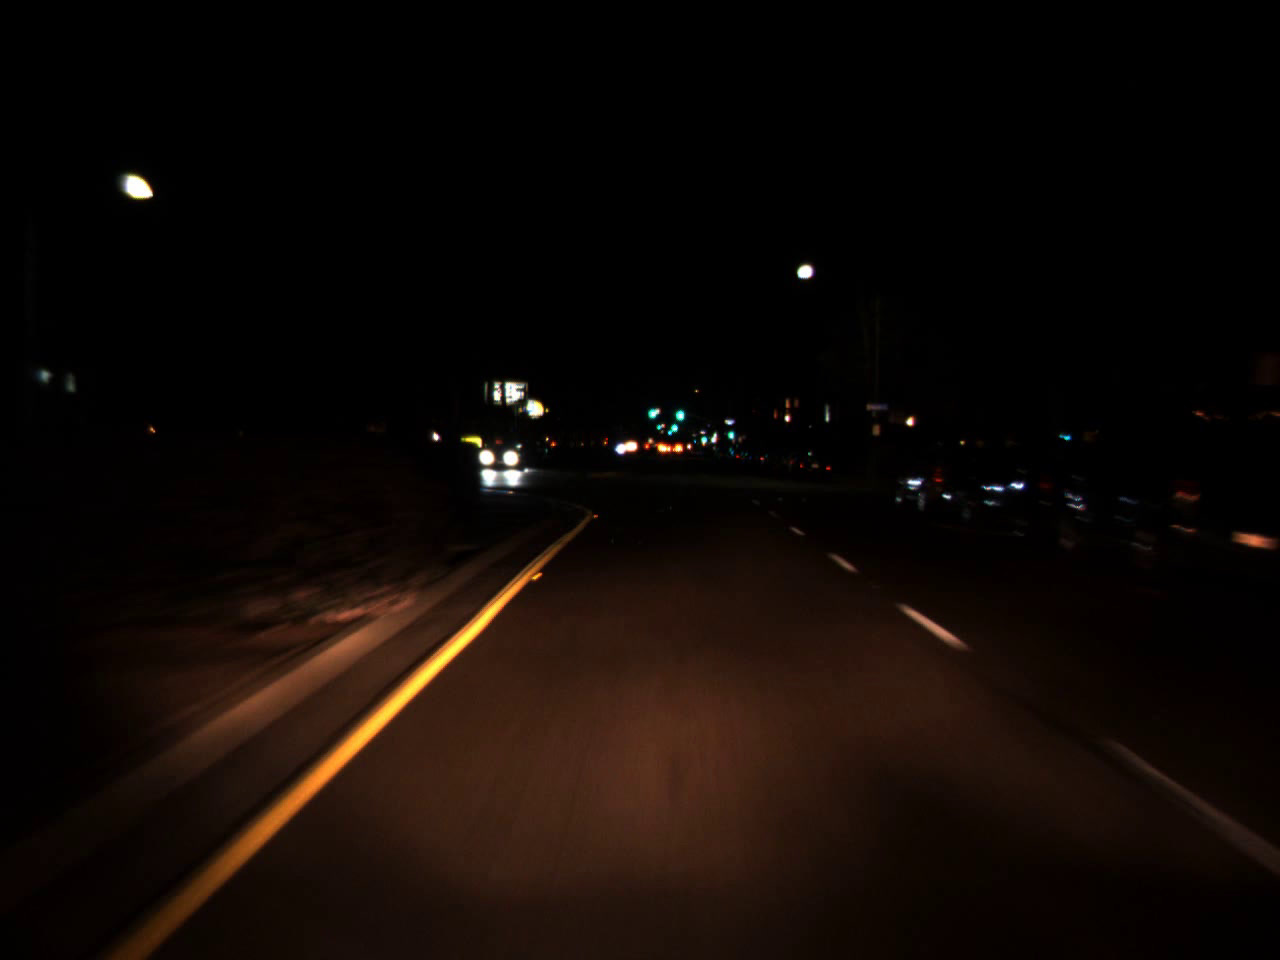go: (672, 397, 686, 424), (645, 398, 657, 422), (669, 416, 678, 434), (727, 424, 734, 439), (666, 424, 673, 436), (700, 432, 707, 444)
